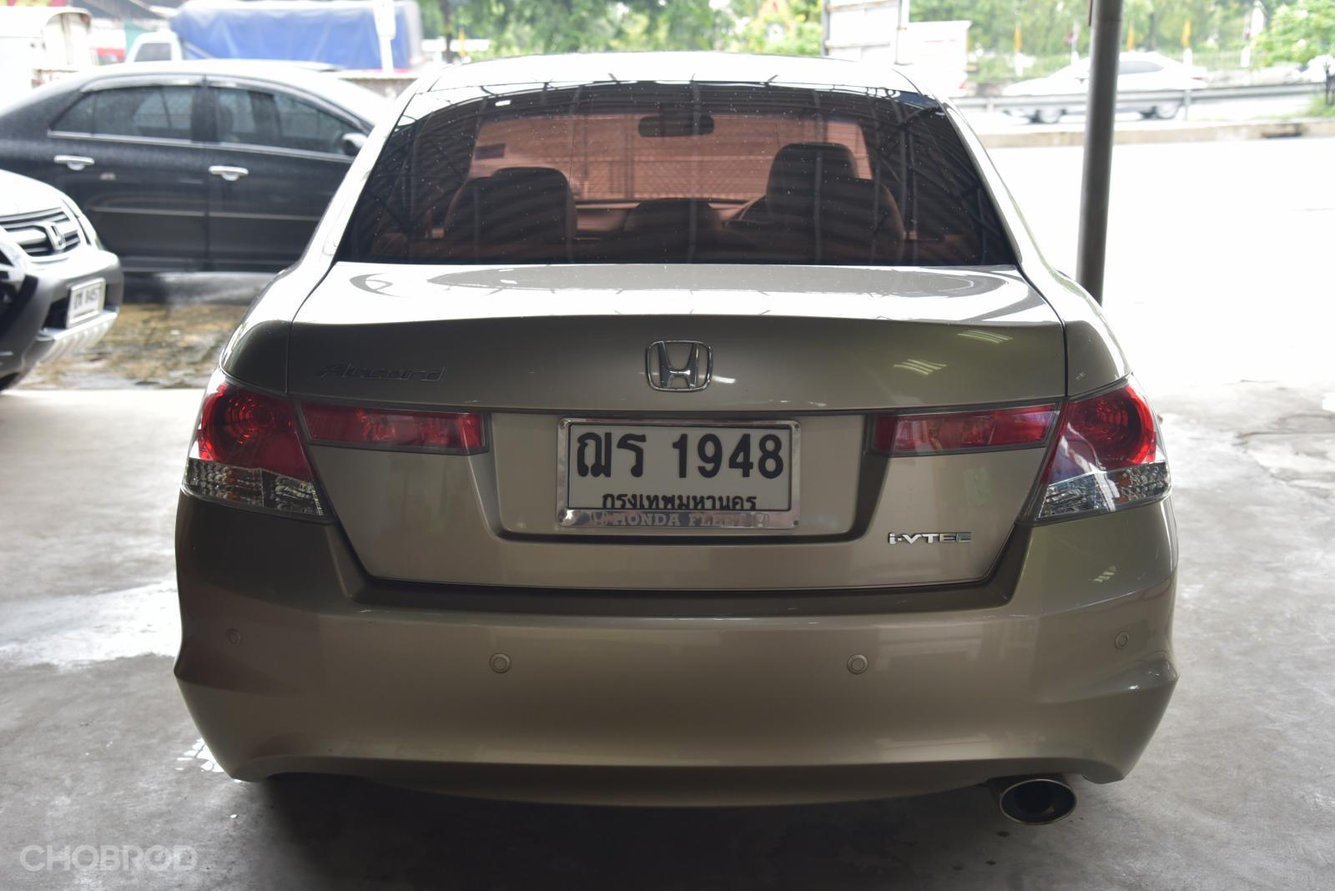license-plate: (557, 413, 805, 531), (64, 273, 112, 328)
